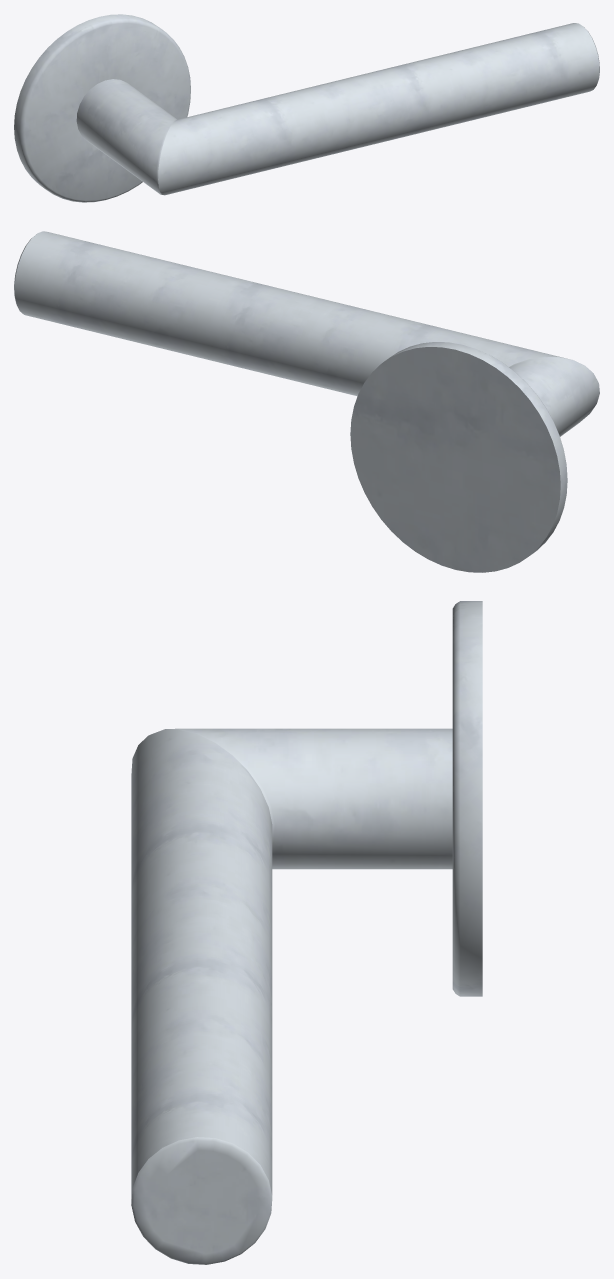
File: handle_lever_modern.glb
3 renders of one model, top to bottom at view 1: azimuth 30°, elevation 25°; view 2: azimuth 150°, elevation 25°; view 3: azimuth 270°, elevation 25°, orthographic. The views are drawn at different scales.
Parts seen in each view (by area): view 1: DoorHandle3_DoorHandle3_0; view 2: DoorHandle3_DoorHandle3_0; view 3: DoorHandle3_DoorHandle3_0.
Part boxes in pixels (x1,y1,x2,y2): DoorHandle3_DoorHandle3_0: [14, 14, 599, 202]; DoorHandle3_DoorHandle3_0: [14, 231, 599, 572]; DoorHandle3_DoorHandle3_0: [131, 601, 482, 1264].
Size of the model in its own units: 0.1542 by 0.053 by 0.047.
Materials: 1 (1 with a texture image).
